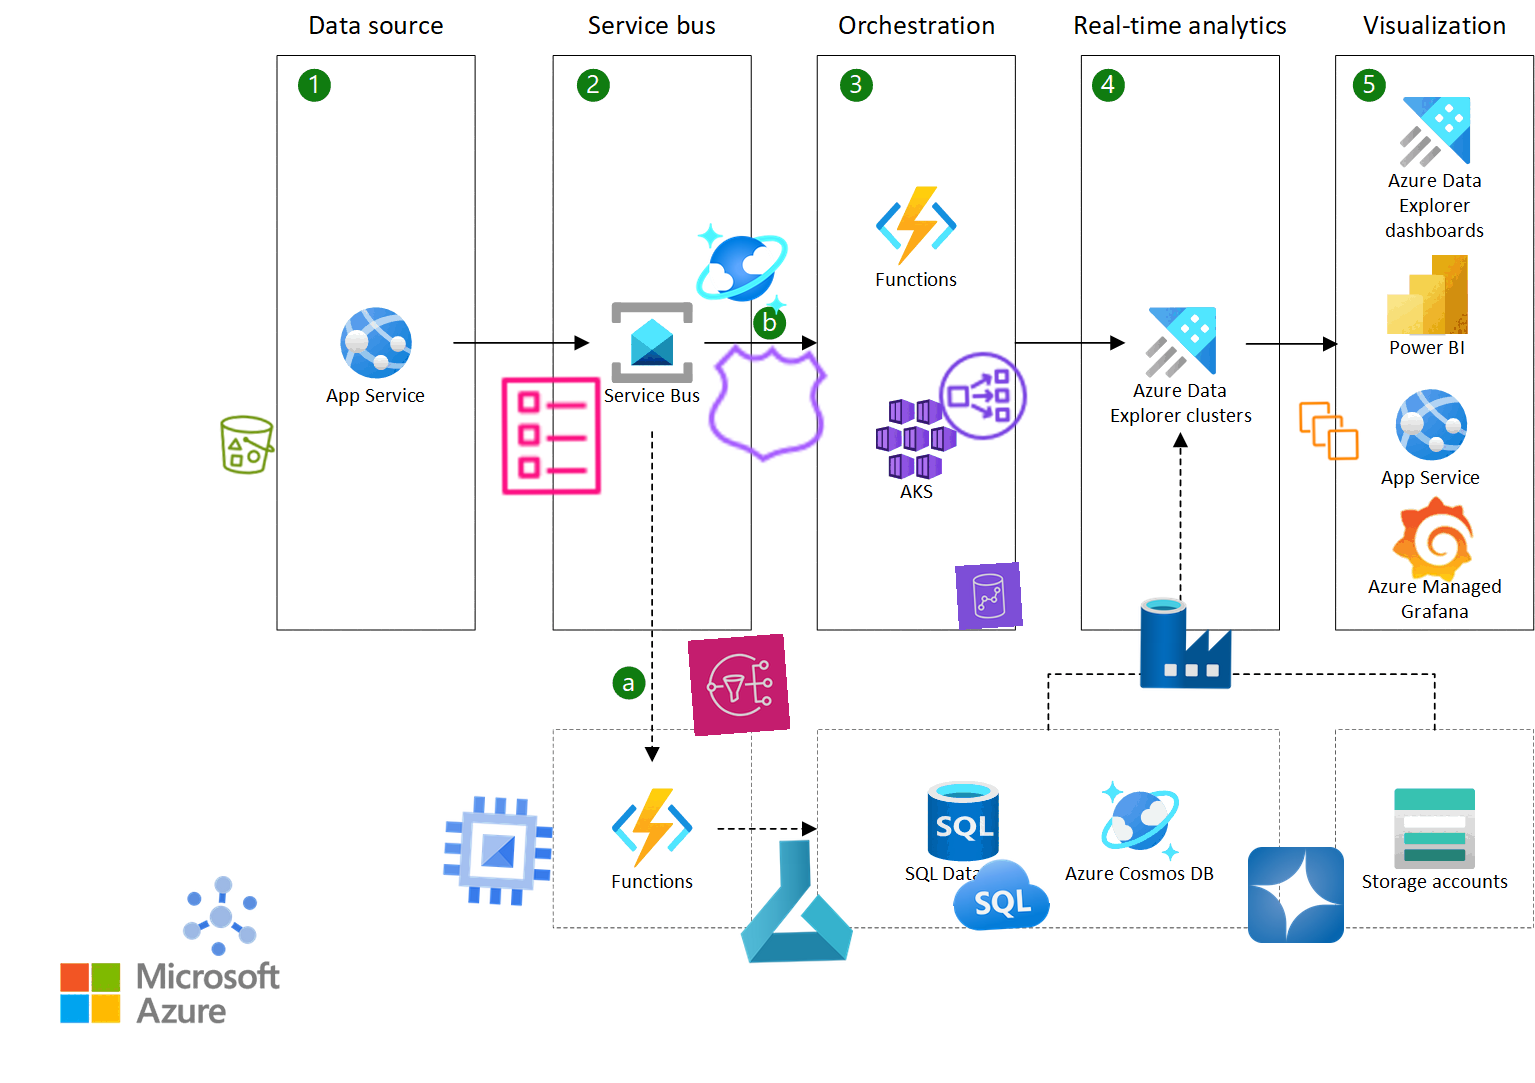aws_amazon_redshift: (955, 561, 1023, 631)
aws_amazon_simple_notification_service: (687, 633, 791, 737)
aws_cloudformation_template: (485, 372, 615, 500)
aws_ec2_instances: (1296, 399, 1362, 464)
aws_elastic_load_balancing_network_load_balancer: (934, 347, 1032, 445)
aws_route_53_hosted_zone: (700, 334, 839, 474)
aws_simple_storage_service_bucket_with_objects: (212, 410, 282, 481)
azure_cosmos_db: (693, 220, 791, 318)
azure_data_factories: (1137, 594, 1235, 692)
azure_machine_learning: (730, 835, 862, 967)
azure_openai: (1247, 846, 1345, 944)
azure_sql: (950, 845, 1052, 947)
gcp_compute_engine: (430, 783, 566, 919)
gcp_pubsub: (169, 864, 273, 968)
